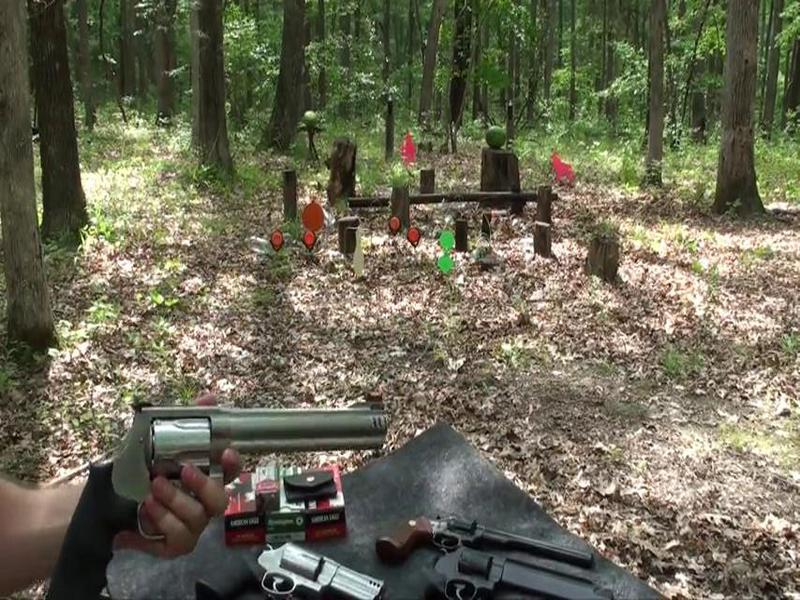Revolver: (38, 384, 401, 600)
